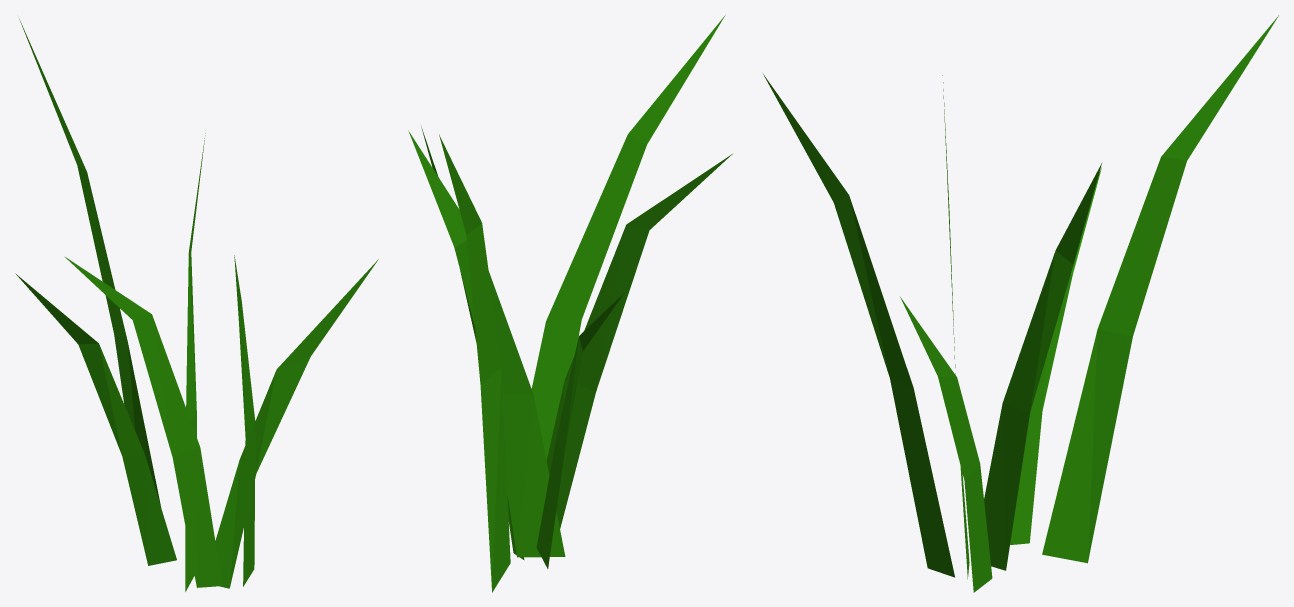
File: grass.obj
3 views of the same model, side by side, from view 1: azimuth 30°, elevation 25°; view 2: azimuth 150°, elevation 25°; view 3: azimuth 270°, elevation 25° (orthographic). The views are drawn at different scales.
Visible parts, largest first — view 1: Plane; view 2: Plane; view 3: Plane.
Boxes of the visible parts, left/top/right/bottom form: Plane: left=15, top=19, right=378, bottom=591; Plane: left=408, top=15, right=732, bottom=592; Plane: left=763, top=15, right=1278, bottom=592.
Size of the model in its own units: 1.01 by 1.59 by 1.38.
